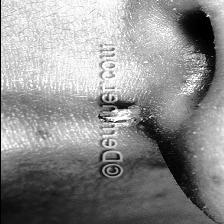Toxin: (115, 109, 155, 132)
